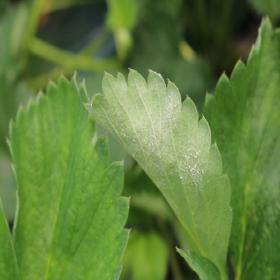Powdery Mildew Leaf: (82, 67, 234, 277)
